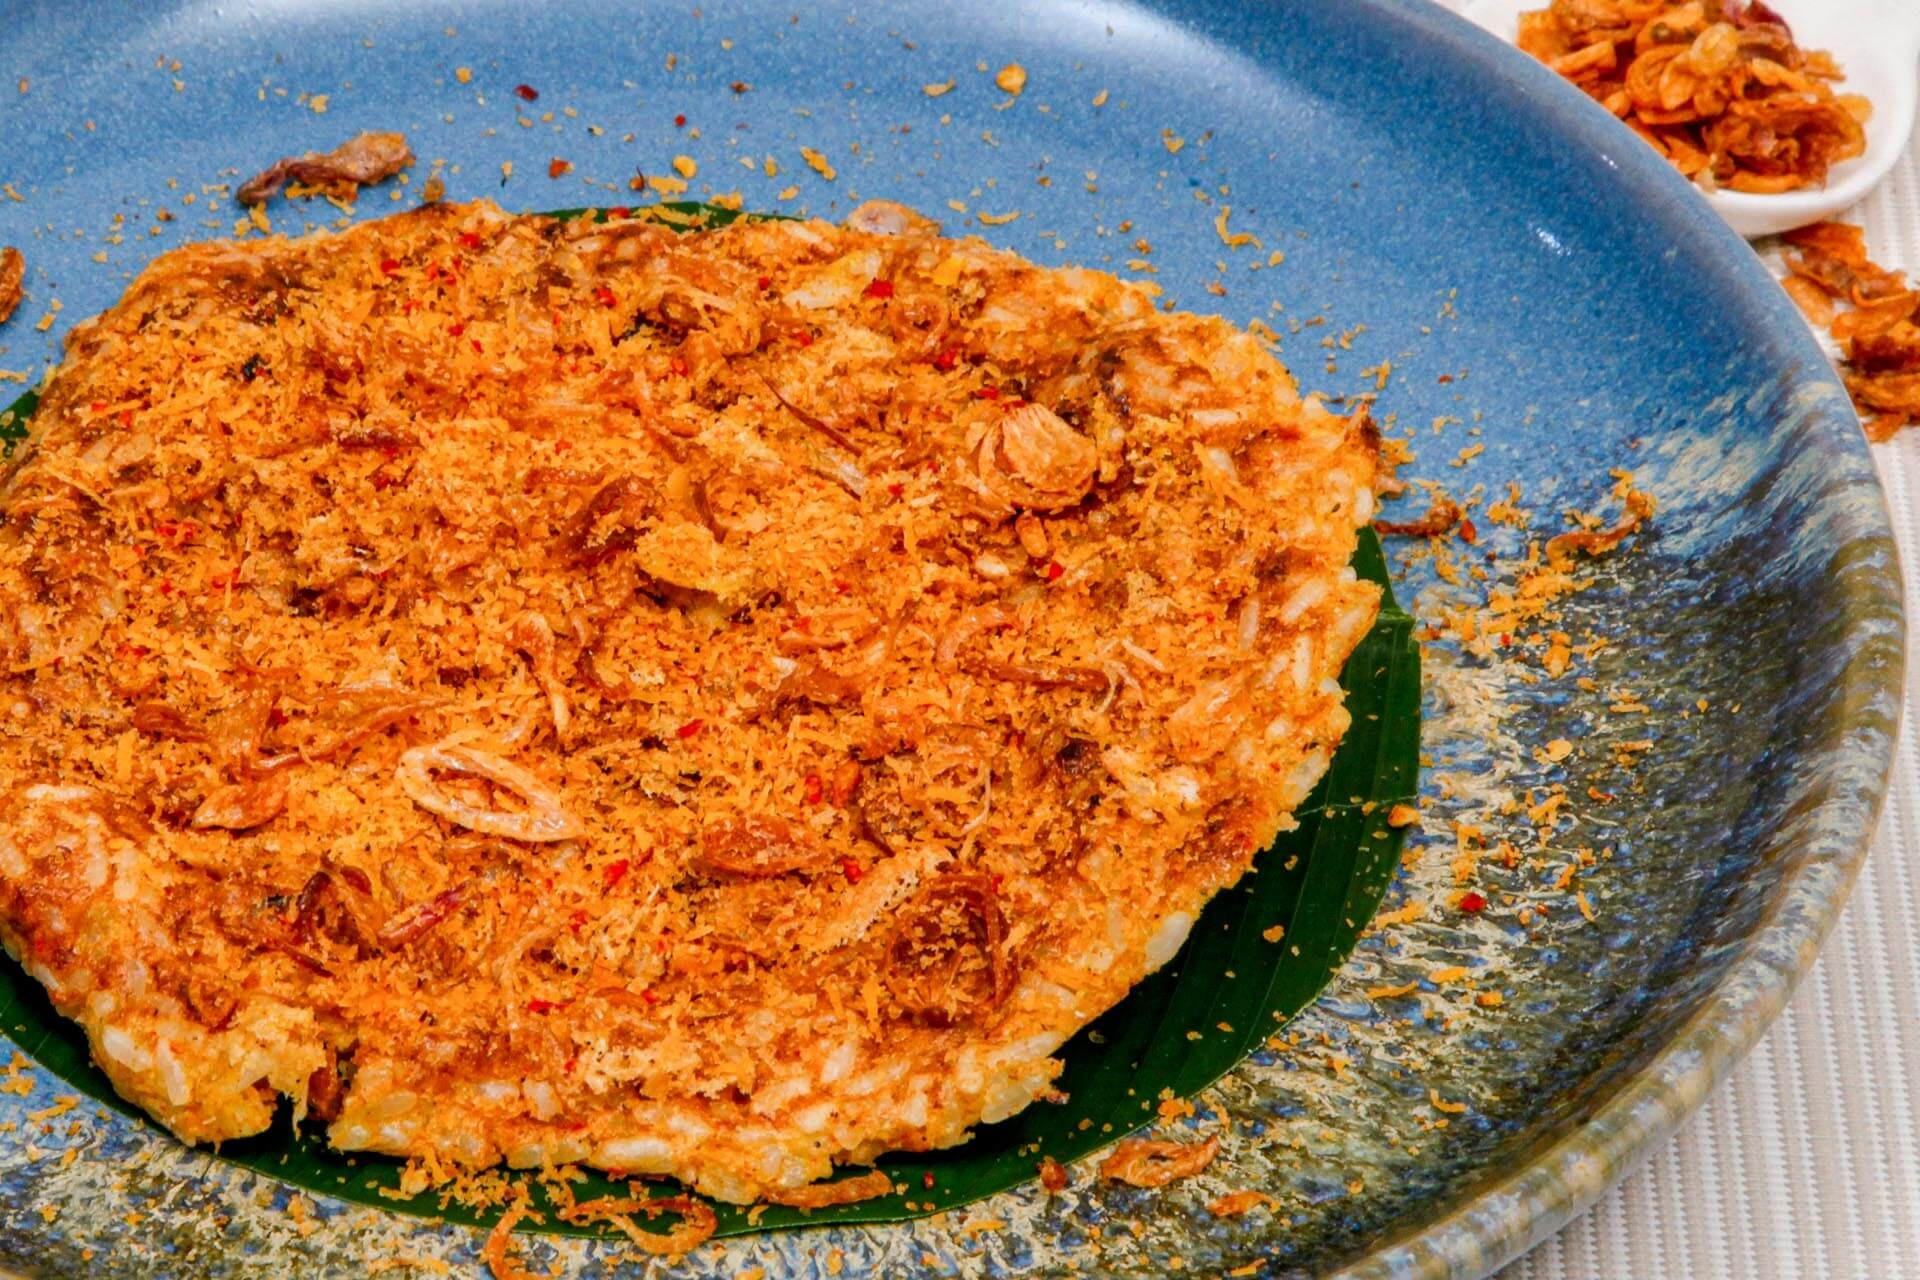kerak_telor: (1, 176, 1409, 1216)
